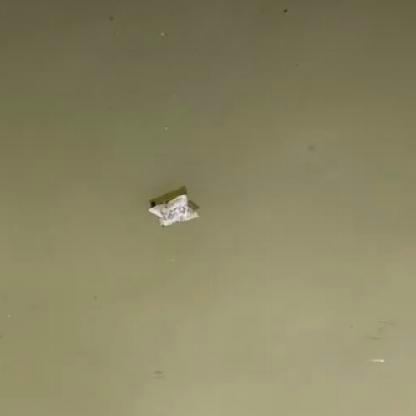Trash: (147, 190, 203, 228)
